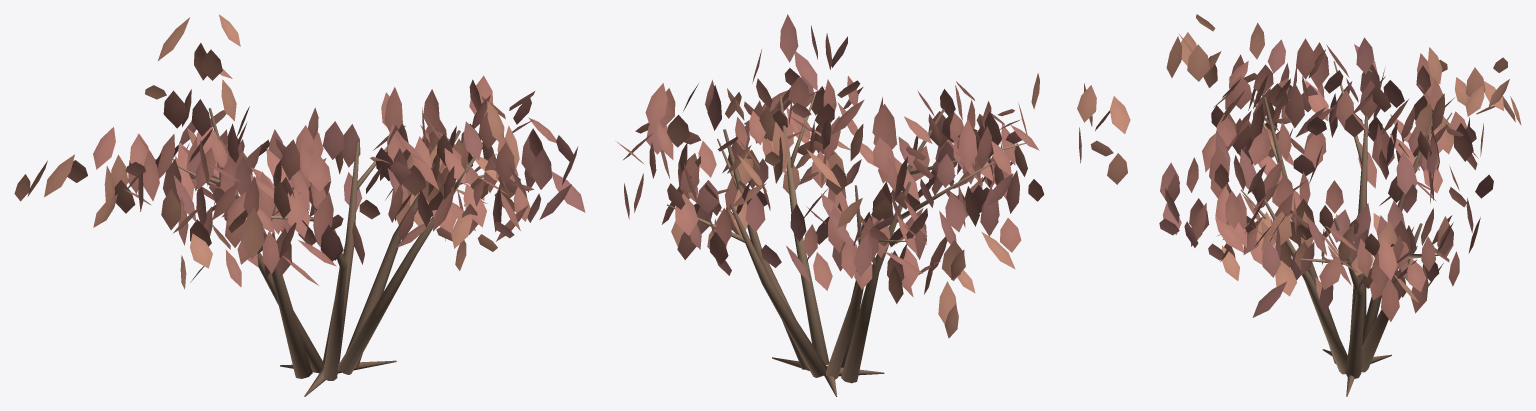
The model's file is bush_3d_02_red.glb.
The picture shows the model from 3 angles, left to right: view 1: azimuth 30°, elevation 25°; view 2: azimuth 150°, elevation 25°; view 3: azimuth 270°, elevation 25°; orthographic projection. The views are drawn at different scales.
Visible parts, largest first — view 1: bush_3d_02_red_foliage, bush_3d_02_red_wood; view 2: bush_3d_02_red_foliage, bush_3d_02_red_wood; view 3: bush_3d_02_red_foliage, bush_3d_02_red_wood.
Part boxes in pixels (x1=…): bush_3d_02_red_foliage: x1=14, y1=14, x2=585, y2=289; bush_3d_02_red_wood: x1=155, y1=108, x2=483, y2=396; bush_3d_02_red_foliage: x1=616, y1=14, x2=1130, y2=338; bush_3d_02_red_wood: x1=667, y1=94, x2=1031, y2=396; bush_3d_02_red_foliage: x1=1159, y1=14, x2=1521, y2=321; bush_3d_02_red_wood: x1=1240, y1=61, x2=1452, y2=396.
Bounding box in the file's own units: 2.42 × 1.6 × 1.82.
